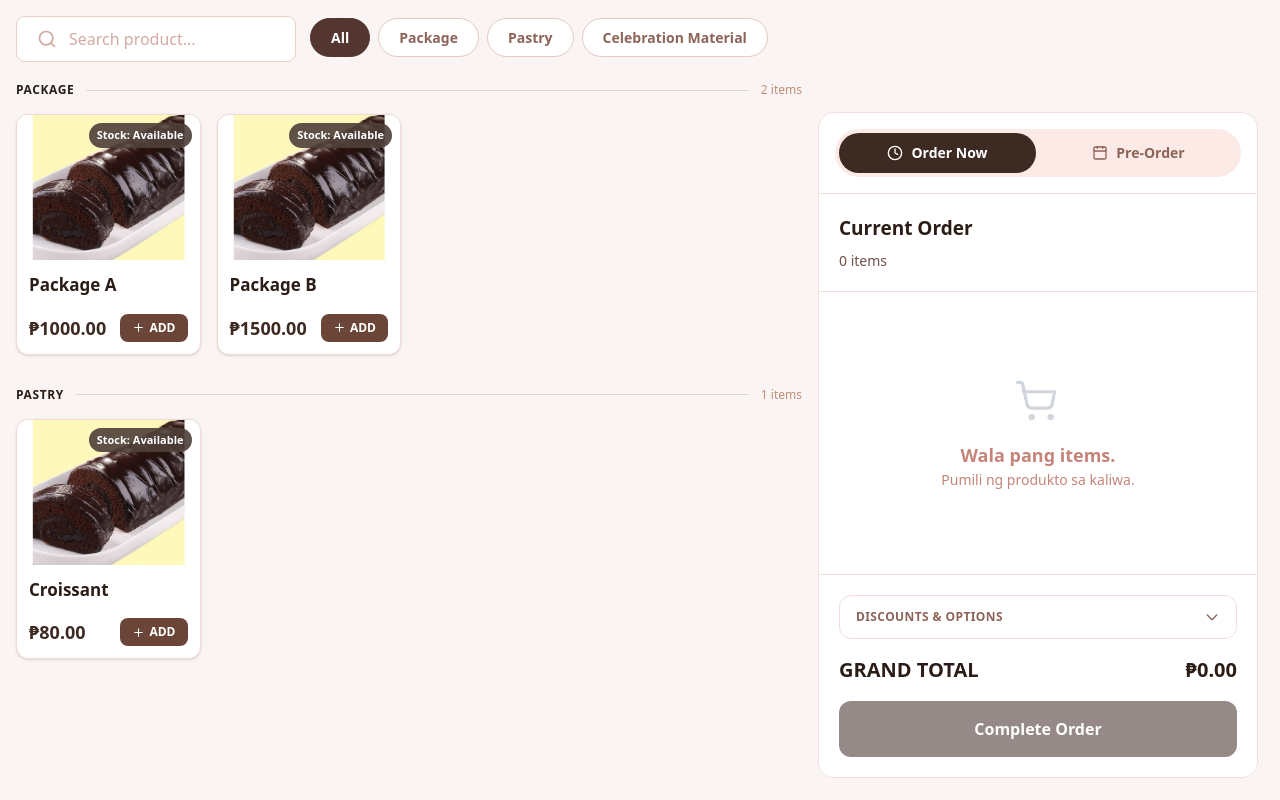
POSPage › changes category filter
Expected: the heading "Package A" is shown, [29, 273, 116, 296]
Click the button "Pastry": (530, 37) [487, 18, 574, 56]
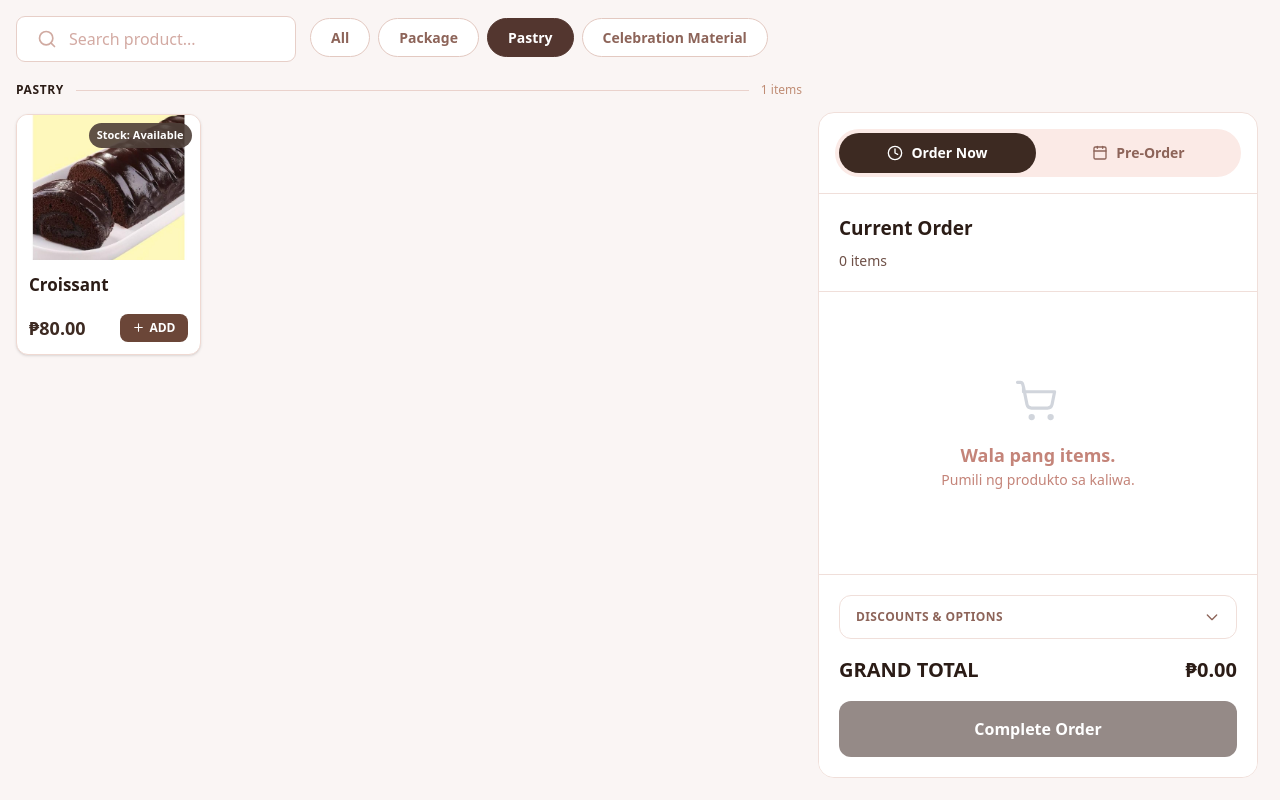
Expected: the heading "Croissant" is shown, [29, 273, 109, 296]
Result: the heading "Package A" is gone
